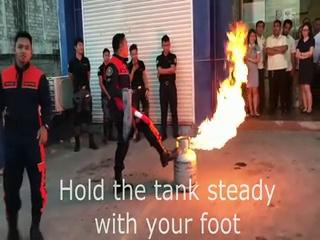Fire: (190, 14, 252, 154)
